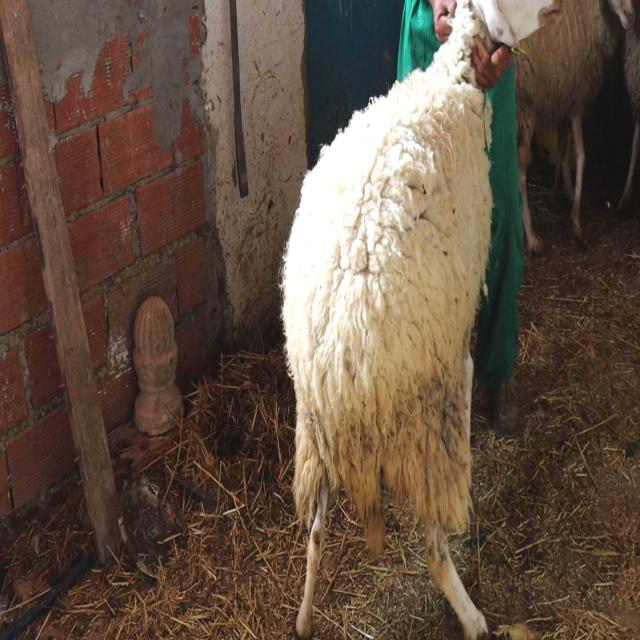Score_4: (281, 0, 559, 639)
